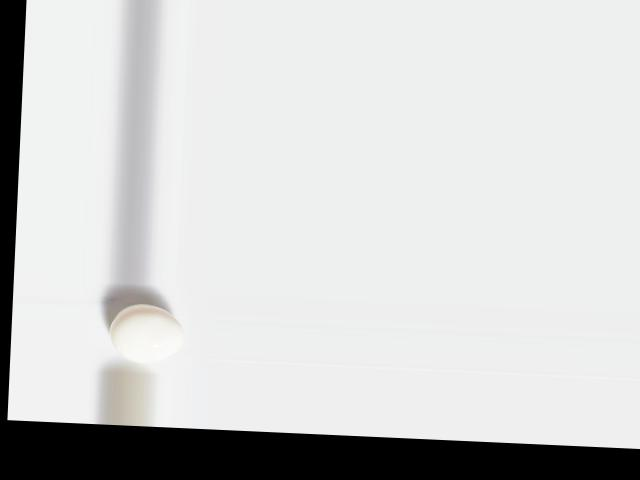egg: (107, 302, 184, 364)
